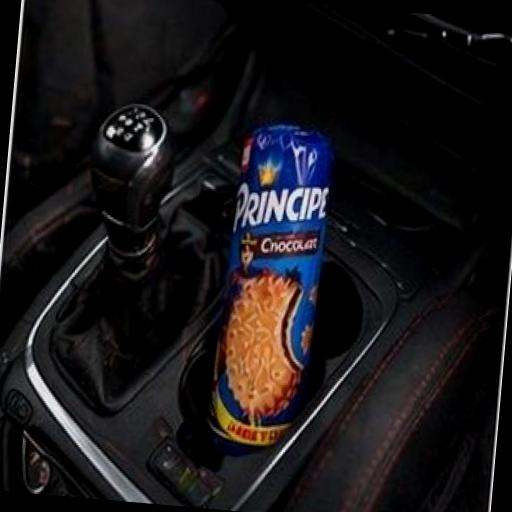prince: (150, 63, 433, 512)
